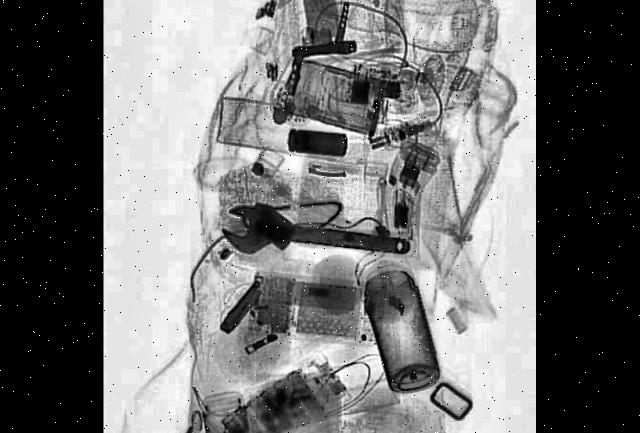Wrench: (221, 197, 412, 275)
